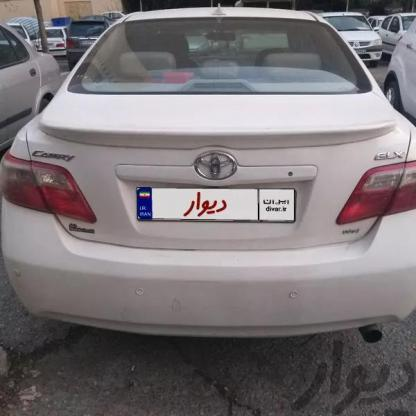Car: (0, 0, 416, 352), (0, 29, 73, 144), (64, 15, 124, 71), (385, 3, 416, 110), (325, 16, 393, 62)
